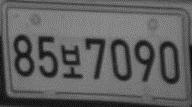0: (158, 39, 181, 85), (109, 38, 133, 82)
5: (38, 35, 58, 79)
7: (83, 36, 106, 80)
8: (12, 34, 34, 78)
9: (133, 38, 155, 83)
보: (60, 43, 83, 79)
